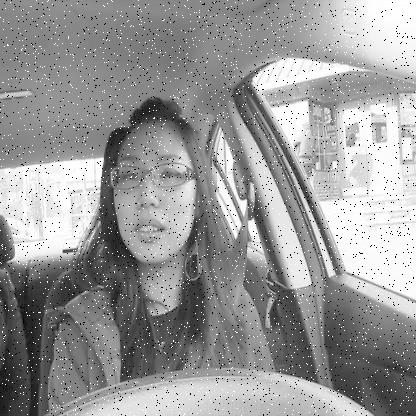seatbelt: (98, 81, 260, 406)
